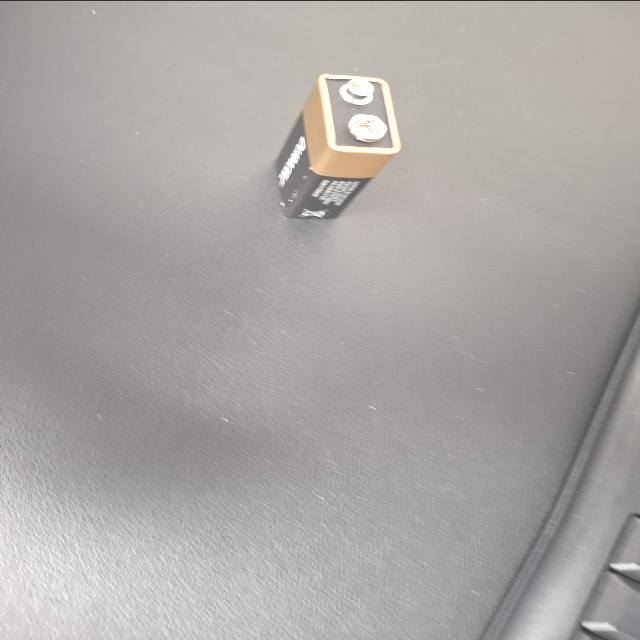9V: (98, 340, 292, 433)
